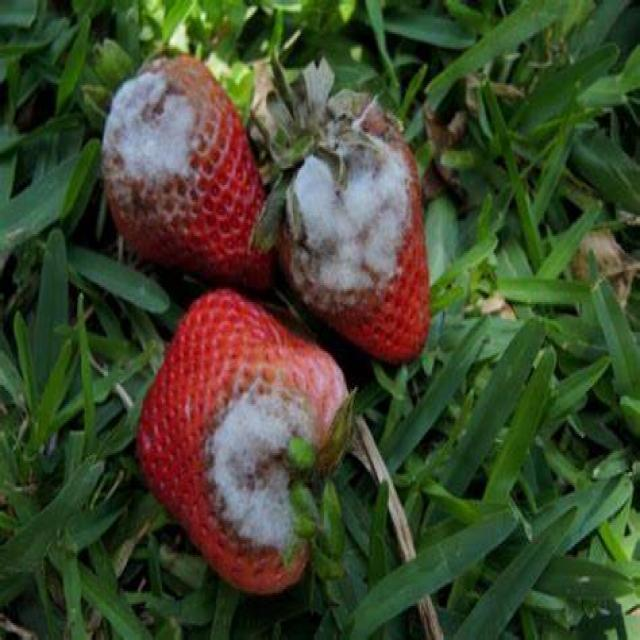Moho gris: (119, 272, 356, 602), (272, 74, 450, 372), (87, 62, 281, 296)
